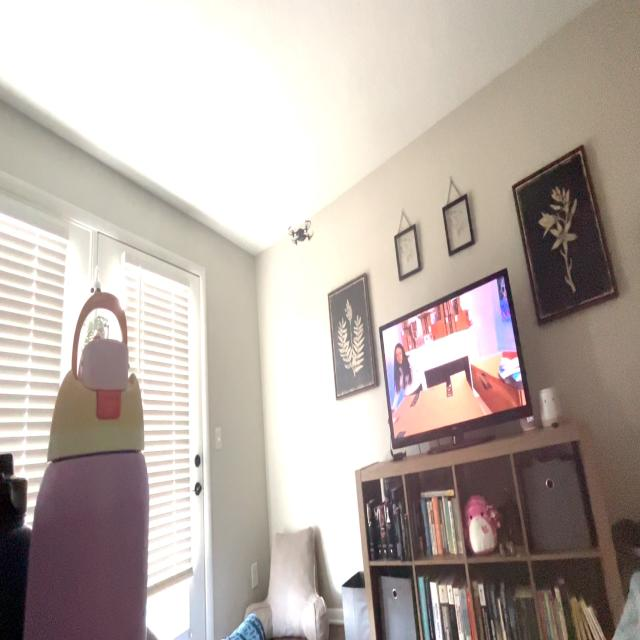drone: (280, 205, 319, 255)
